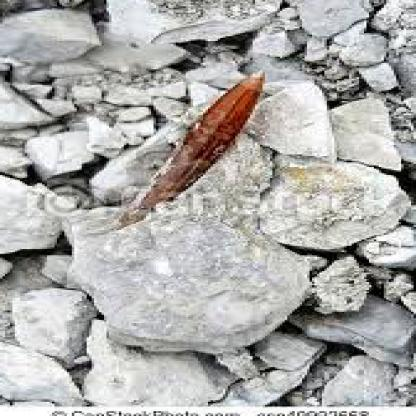Sedimentary_Chalk: (126, 224, 288, 329), (287, 161, 399, 235), (272, 77, 332, 161), (0, 184, 67, 244)
